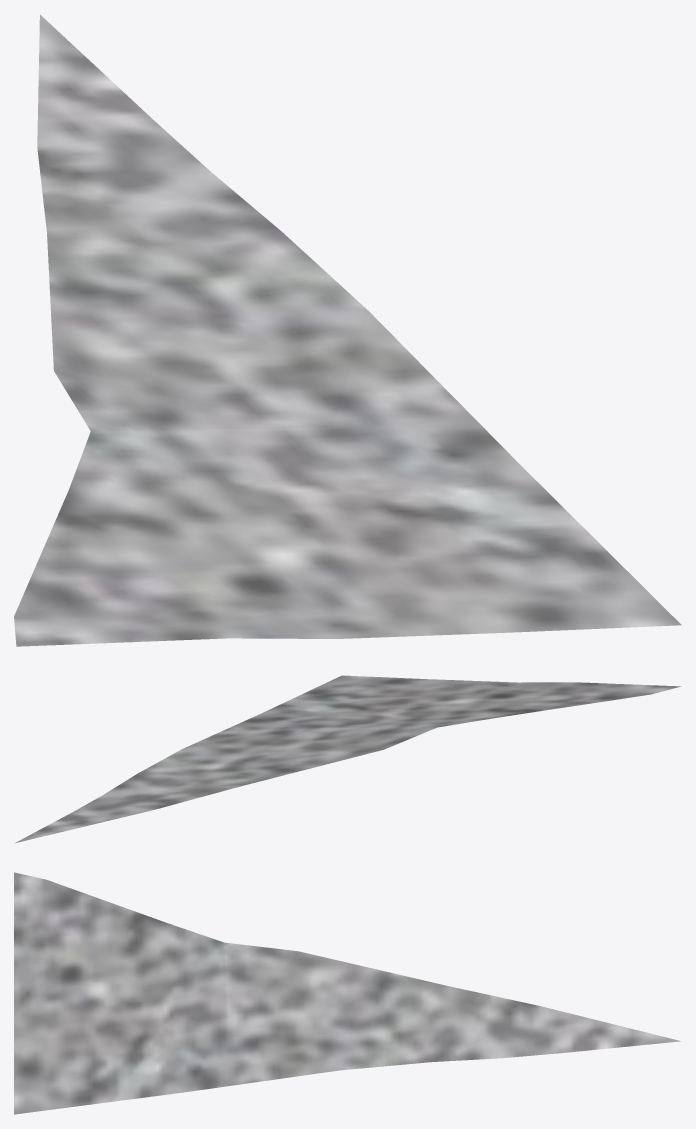
3 views of the same model, one above another, from view 1: azimuth 30°, elevation 25°; view 2: azimuth 150°, elevation 25°; view 3: azimuth 270°, elevation 25° (orthographic). The views are drawn at different scales.
Bounding box in the file's own units: 0.2415 × 0.0489 × 0.4034.
Materials: 1 (1 with a texture image).
